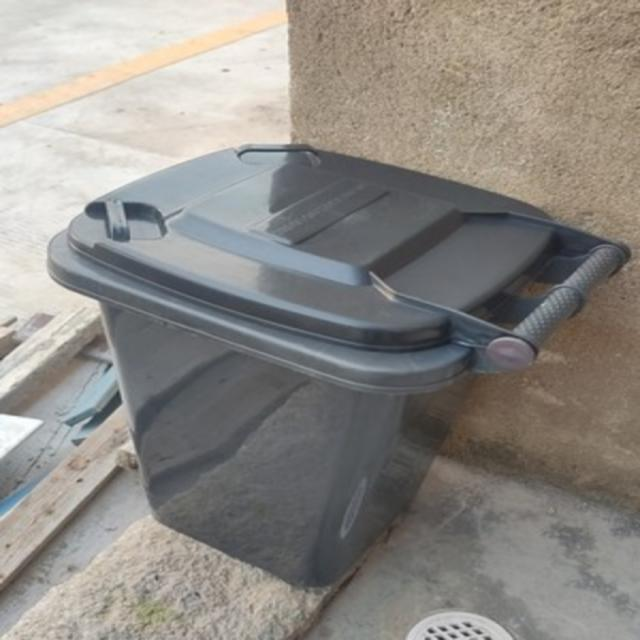ash bin: (45, 142, 627, 584)
